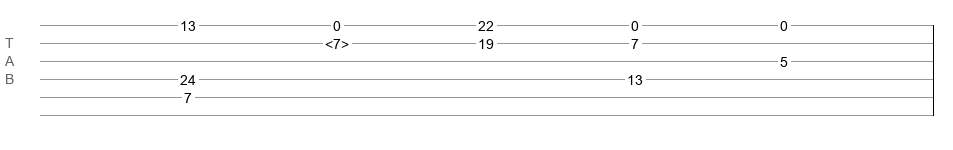0: (333, 18, 341, 28), (631, 18, 639, 28), (780, 18, 788, 28)
13: (180, 18, 196, 28), (627, 72, 643, 82)
19: (478, 36, 494, 46)
22: (478, 18, 494, 28)
24: (180, 72, 196, 82)
5: (780, 54, 788, 64)
7: (184, 90, 192, 100), (631, 36, 639, 46)
harmonic: (325, 36, 349, 46)
